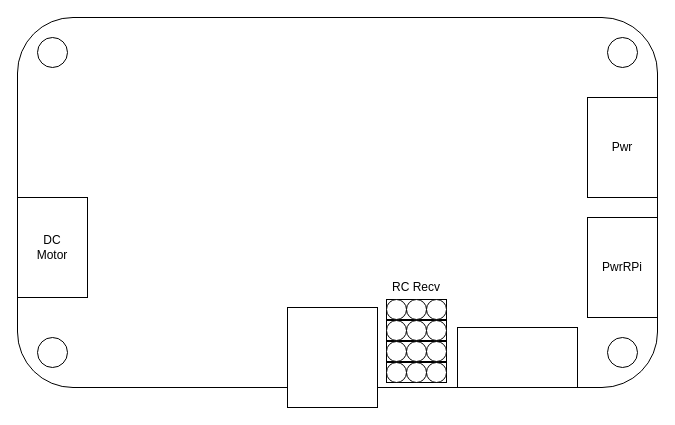
This 675x425 diagram has some shape labels left out. The shapes that lost their labels are listed below. From the top down, each one's centre as x and y in pixels, then its label:
pixel 332 357: USB
pixel 517 357: CAN
